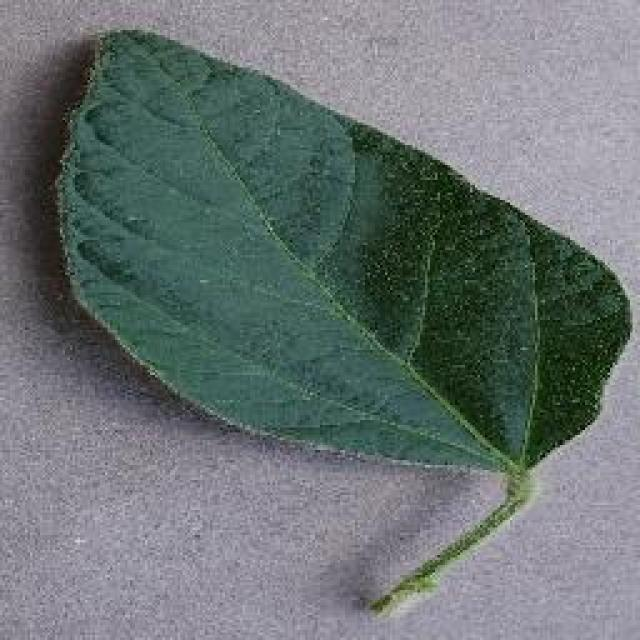Soy_healthy: (50, 41, 581, 450)
